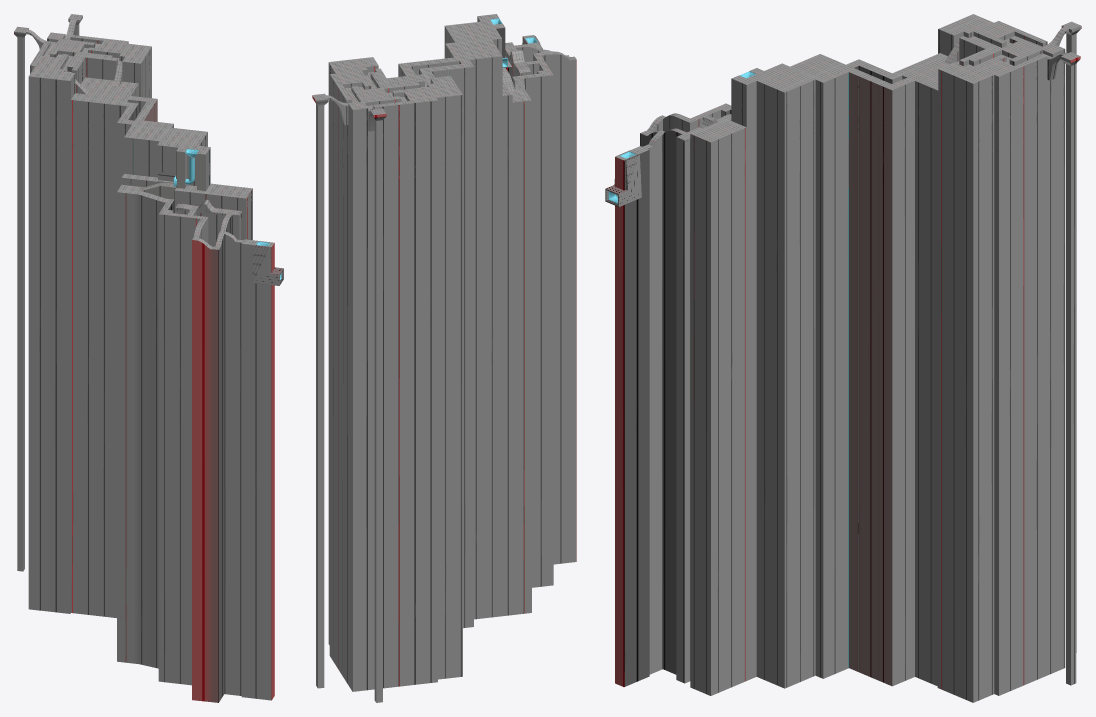
Rendered from level_0.glb.
3 views of the same model, side by side, from view 1: azimuth 30°, elevation 25°; view 2: azimuth 150°, elevation 25°; view 3: azimuth 270°, elevation 25° (orthographic). The views are drawn at different scales.
Visible parts, largest first — view 1: marble_level_0-col, tunnel-colonly.001; view 2: marble_level_0-col; view 3: marble_level_0-col, tunnel-colonly.001.
Boxes of the visible parts, box(x1,y1,x2,y2) form: marble_level_0-col: box(14, 14, 274, 702); tunnel-colonly.001: box(252, 245, 283, 285); marble_level_0-col: box(312, 14, 576, 702); marble_level_0-col: box(615, 14, 1081, 702); tunnel-colonly.001: box(605, 150, 641, 206).
Size of what is drawn, in the model's own units: 1.79 by 7.48 by 5.15.
4 materials, 3 textured.
